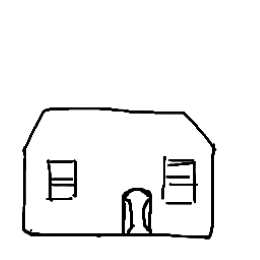bottom_placed_house: (1, 1, 260, 260)
closed_window: (36, 150, 90, 211), (158, 145, 205, 209)
door: (113, 173, 159, 239)
single_line_roof: (20, 92, 228, 157)
wall: (13, 138, 233, 242)
